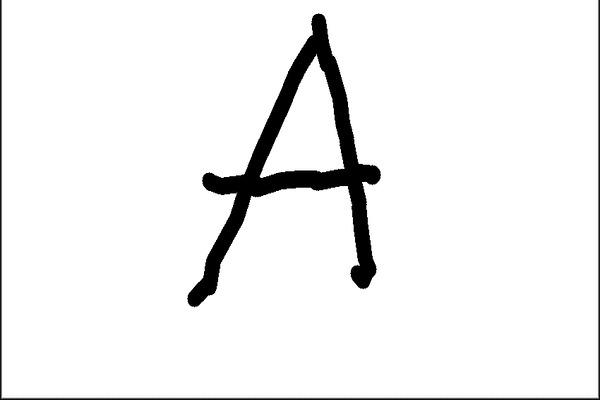A: (166, 9, 390, 310)
